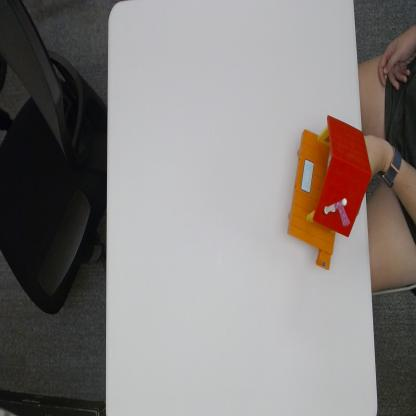Hand: (361, 131, 387, 180)
House: (292, 116, 370, 272)
